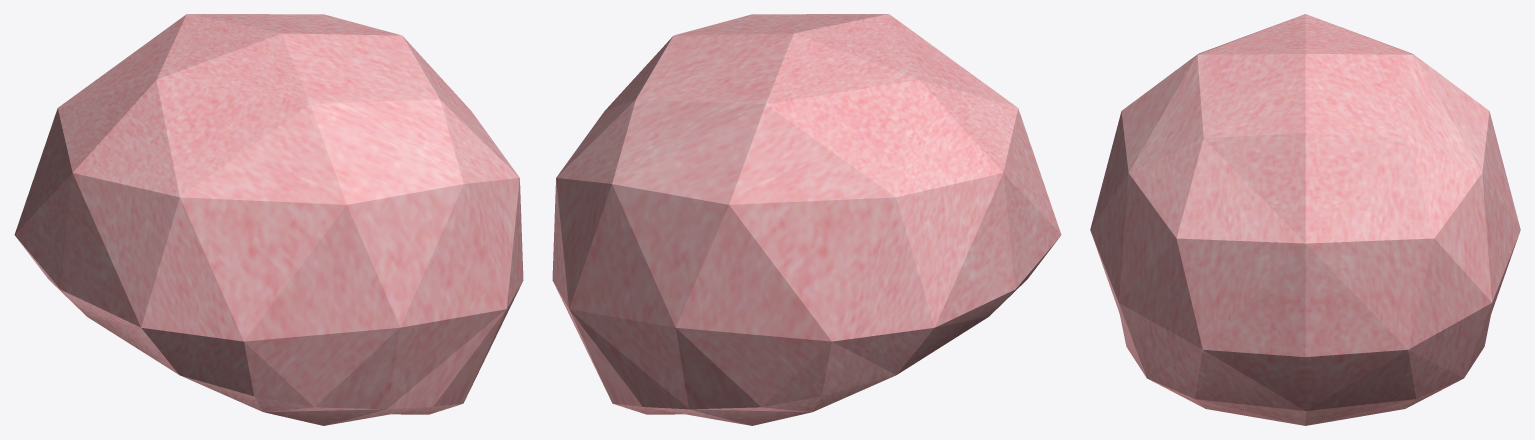
The model's file is Sheep_afro_02.obj.
3 views of the same model, side by side, from view 1: azimuth 30°, elevation 25°; view 2: azimuth 150°, elevation 25°; view 3: azimuth 270°, elevation 25° (orthographic). The views are drawn at different scales.
Parts seen in each view (by area): view 1: Sheep_afro_02; view 2: Sheep_afro_02; view 3: Sheep_afro_02.
Part boxes in pixels (box(x1,y1,x2,y2)): Sheep_afro_02: box(14, 14, 523, 425); Sheep_afro_02: box(552, 14, 1061, 425); Sheep_afro_02: box(1090, 14, 1520, 425).
Bounding box in the file's own units: 0.3576 × 0.3013 × 0.3639.
Materials: 1 (1 with a texture image).
